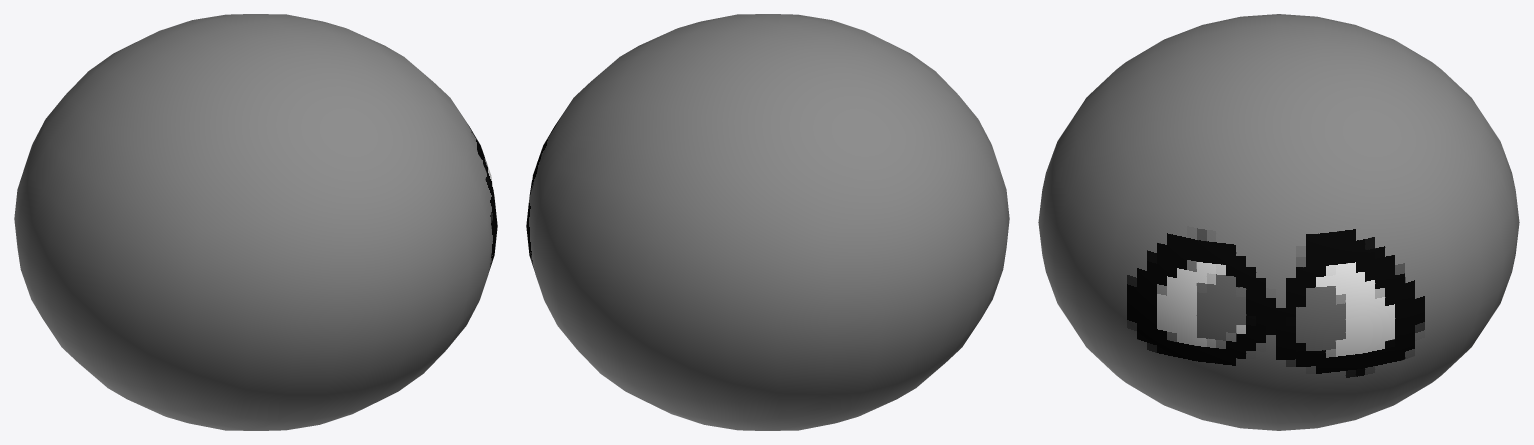
File: nuisancepuyo.glb
3 renders of one model, left to right at view 1: azimuth 30°, elevation 25°; view 2: azimuth 150°, elevation 25°; view 3: azimuth 270°, elevation 25°, orthographic.
Visible parts, largest first — view 1: NuiPuy; view 2: NuiPuy; view 3: NuiPuy.
Part boxes in pixels (x1=…): NuiPuy: x1=14, y1=14, x2=497, y2=430; NuiPuy: x1=526, y1=14, x2=1009, y2=430; NuiPuy: x1=1038, y1=14, x2=1519, y2=430.
Bounding box in the file's own units: 2 × 1.67 × 2.
Materials: 1 (1 with a texture image).
